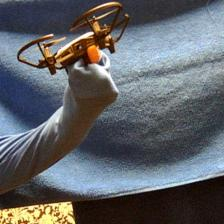drone: (19, 1, 128, 75)
